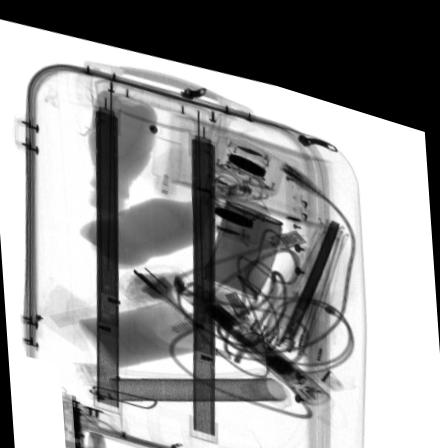Baton: (175, 268, 331, 386)
